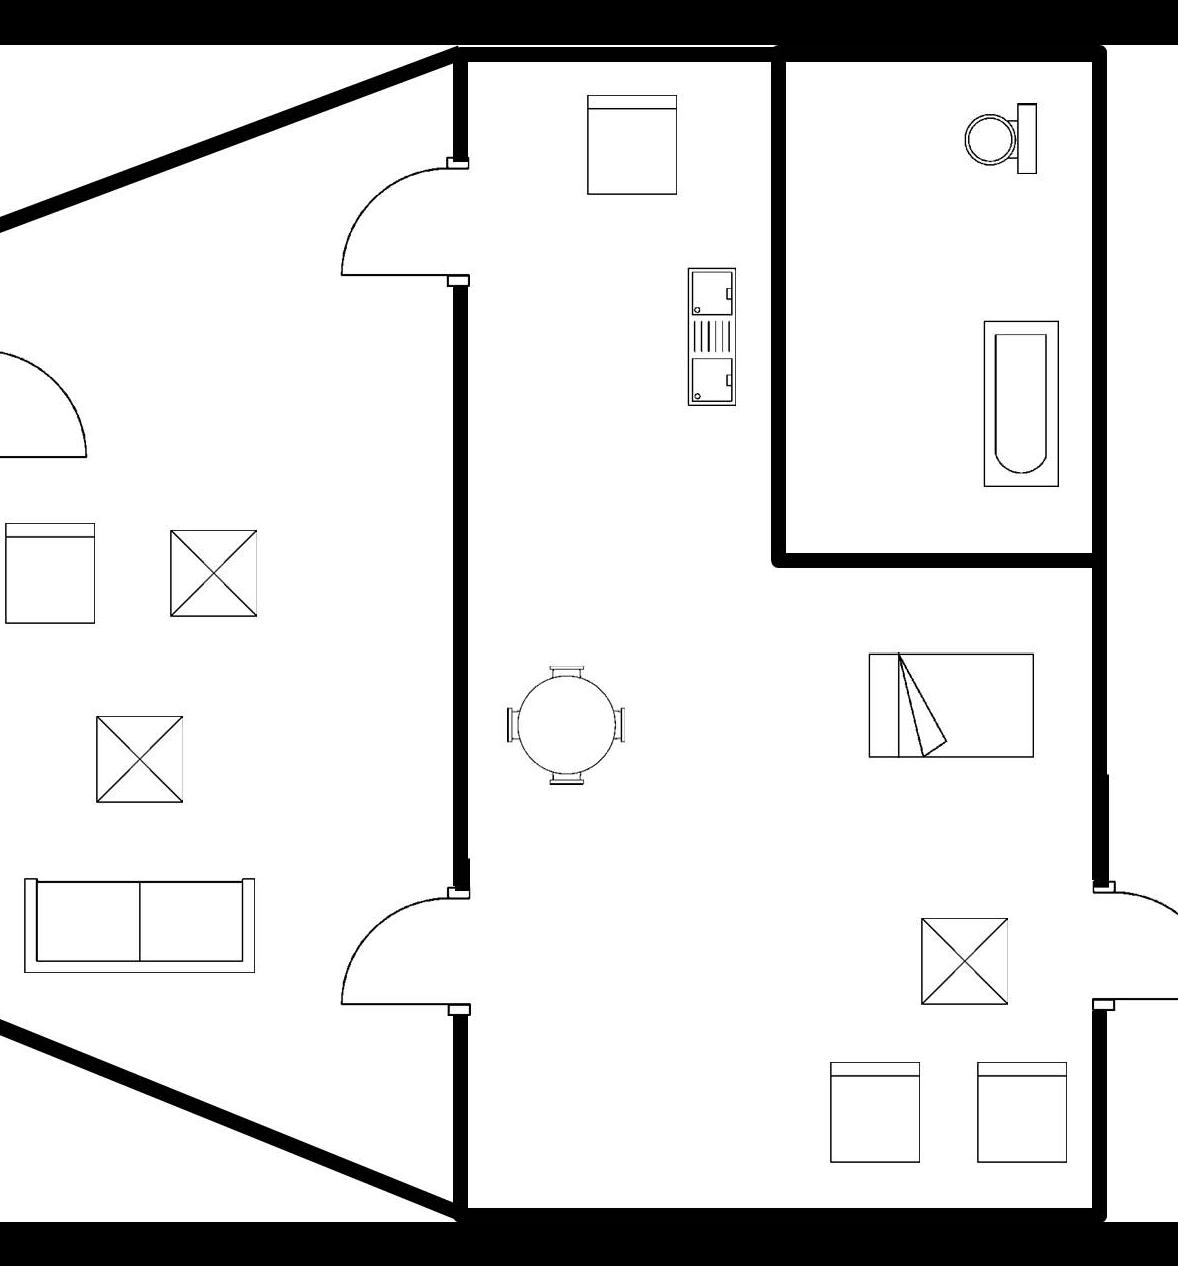sink: (675, 250, 744, 413)
